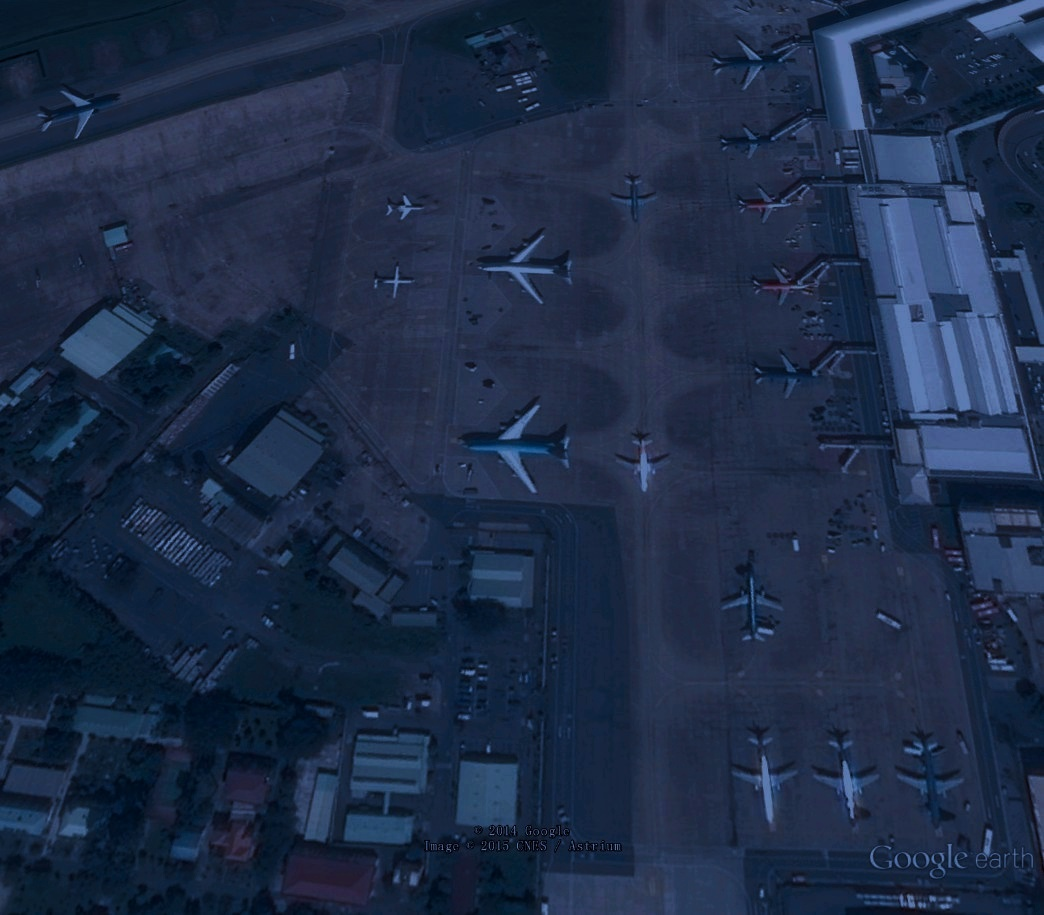aircraft: (456, 396, 574, 502), (471, 228, 577, 310), (889, 735, 973, 832), (724, 733, 802, 832), (810, 735, 886, 832), (30, 81, 124, 147), (706, 33, 796, 97), (717, 573, 792, 648), (747, 346, 835, 403), (609, 433, 676, 498), (747, 258, 819, 312), (714, 121, 793, 165), (730, 181, 801, 229), (606, 174, 664, 228), (369, 261, 421, 304), (382, 190, 430, 228)
